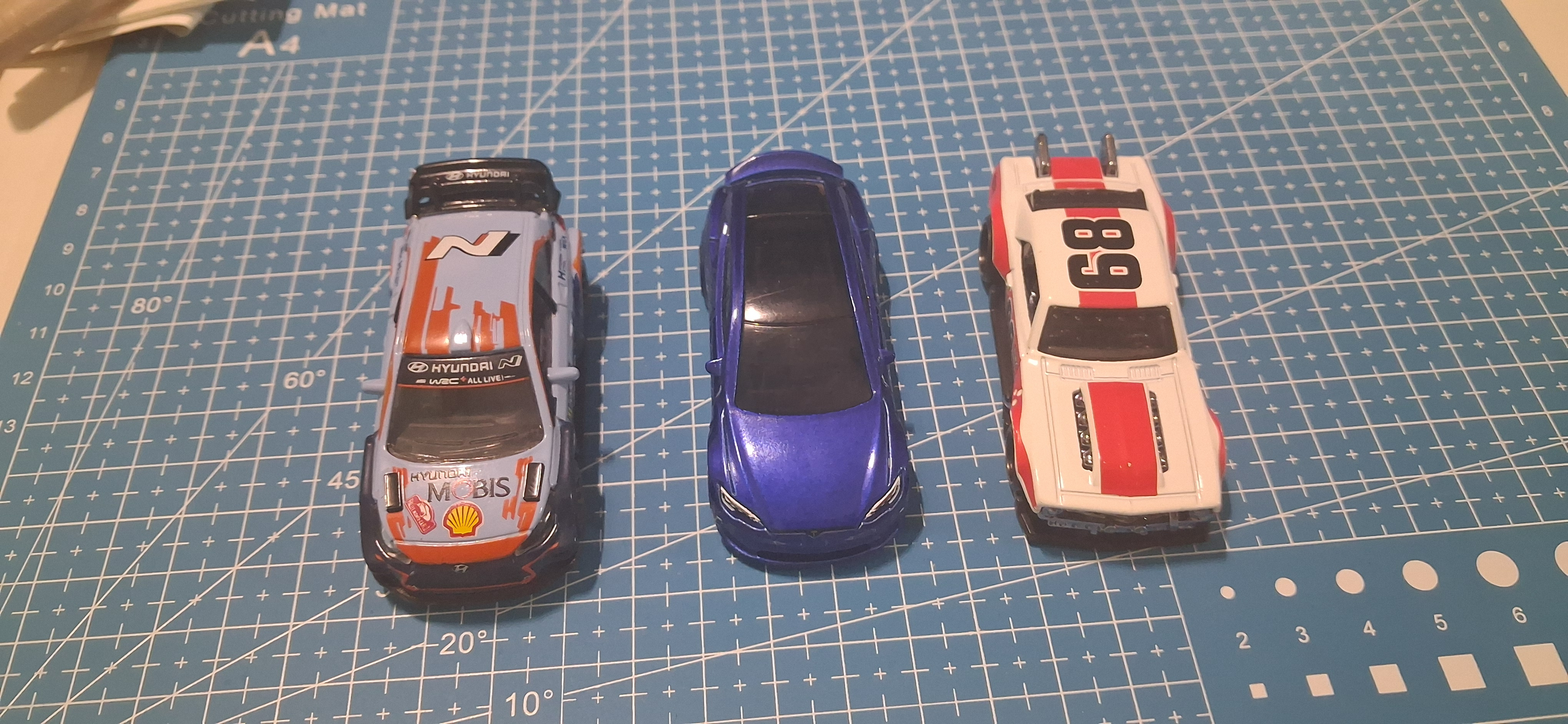Camaro: (960, 99, 1272, 566)
Hyundai_I20_WRC: (340, 120, 616, 657)
Tesla_Model_S_Plaid: (668, 117, 936, 639)
